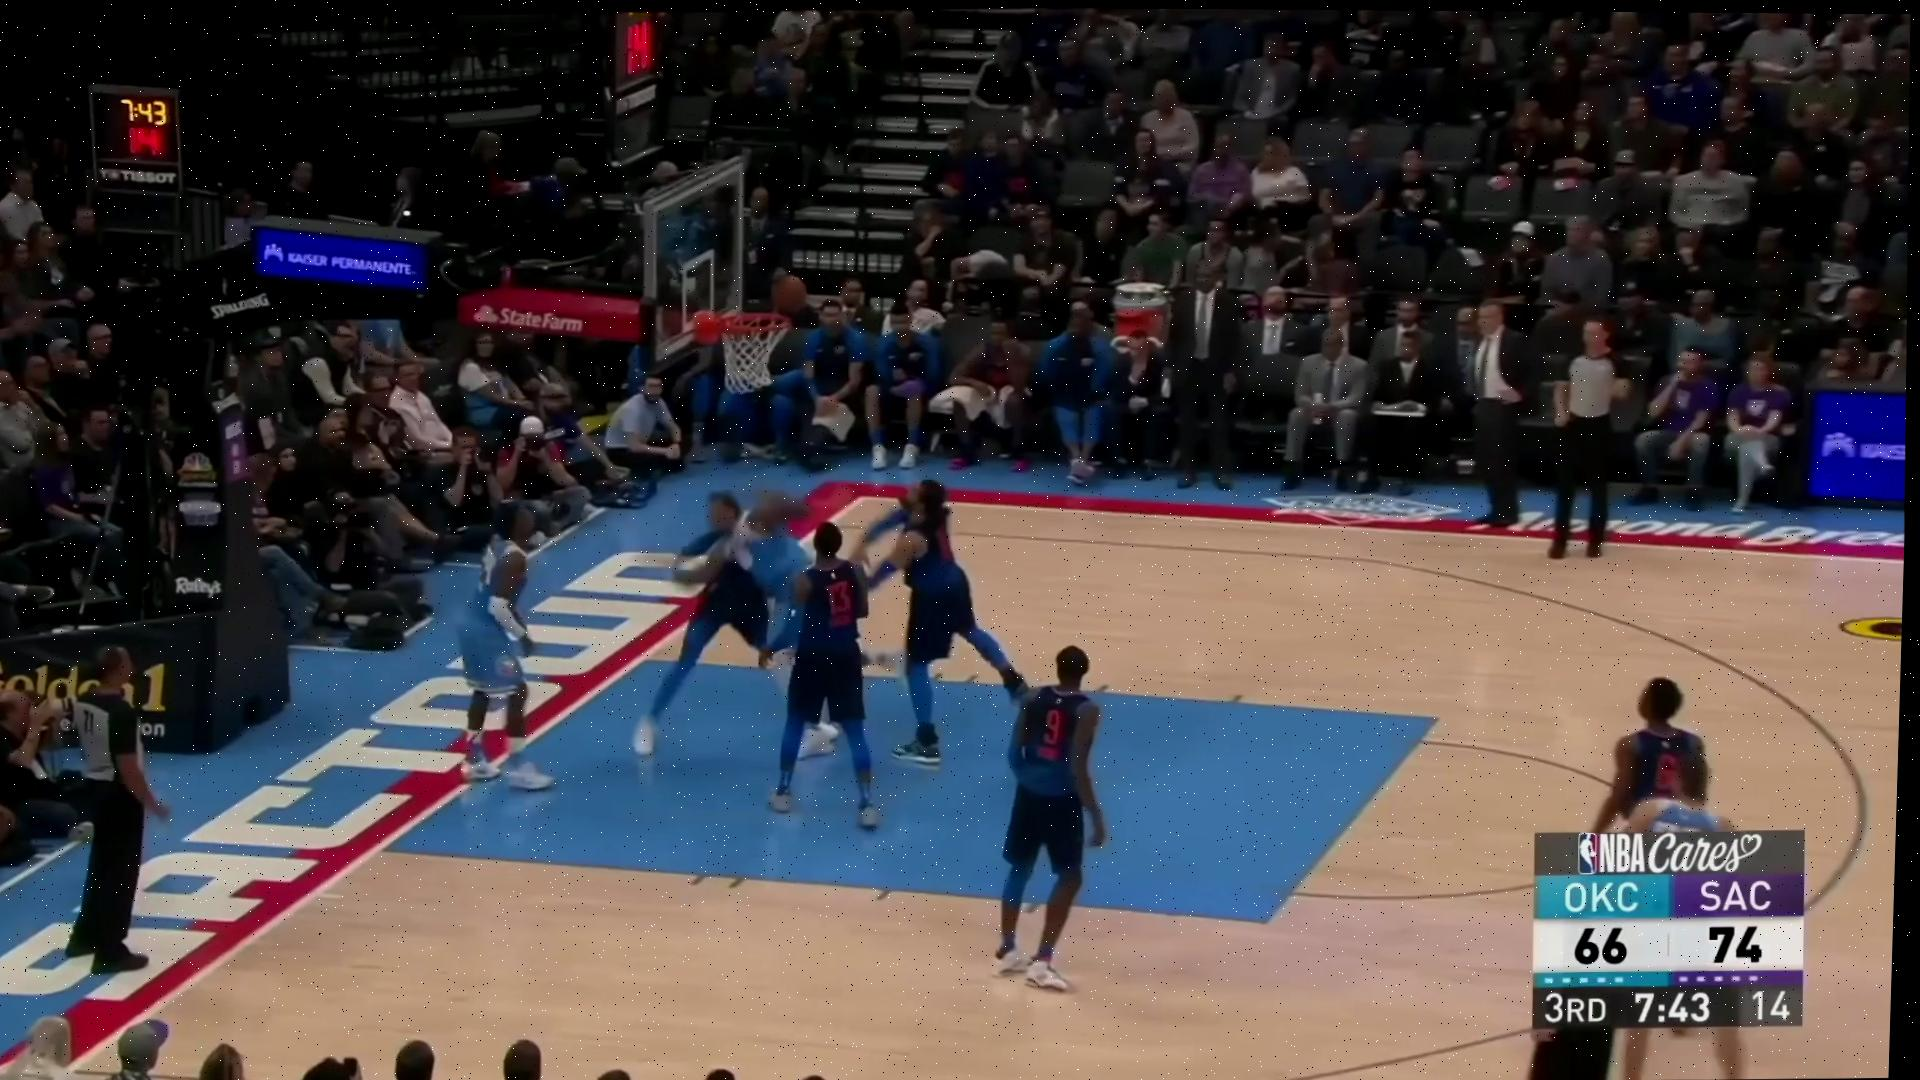foul: (628, 458, 877, 781)
